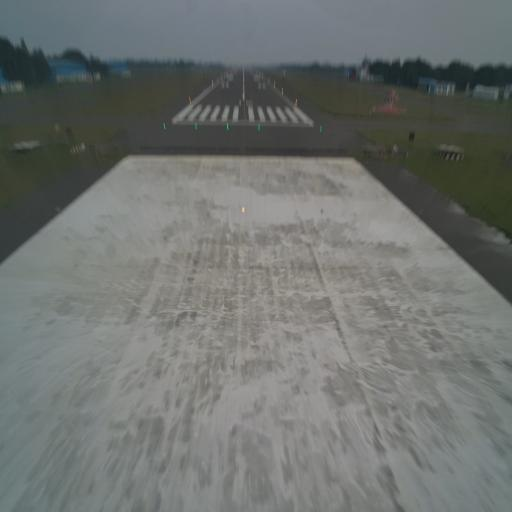off: (53, 203, 62, 214)
on: (240, 204, 246, 217)
